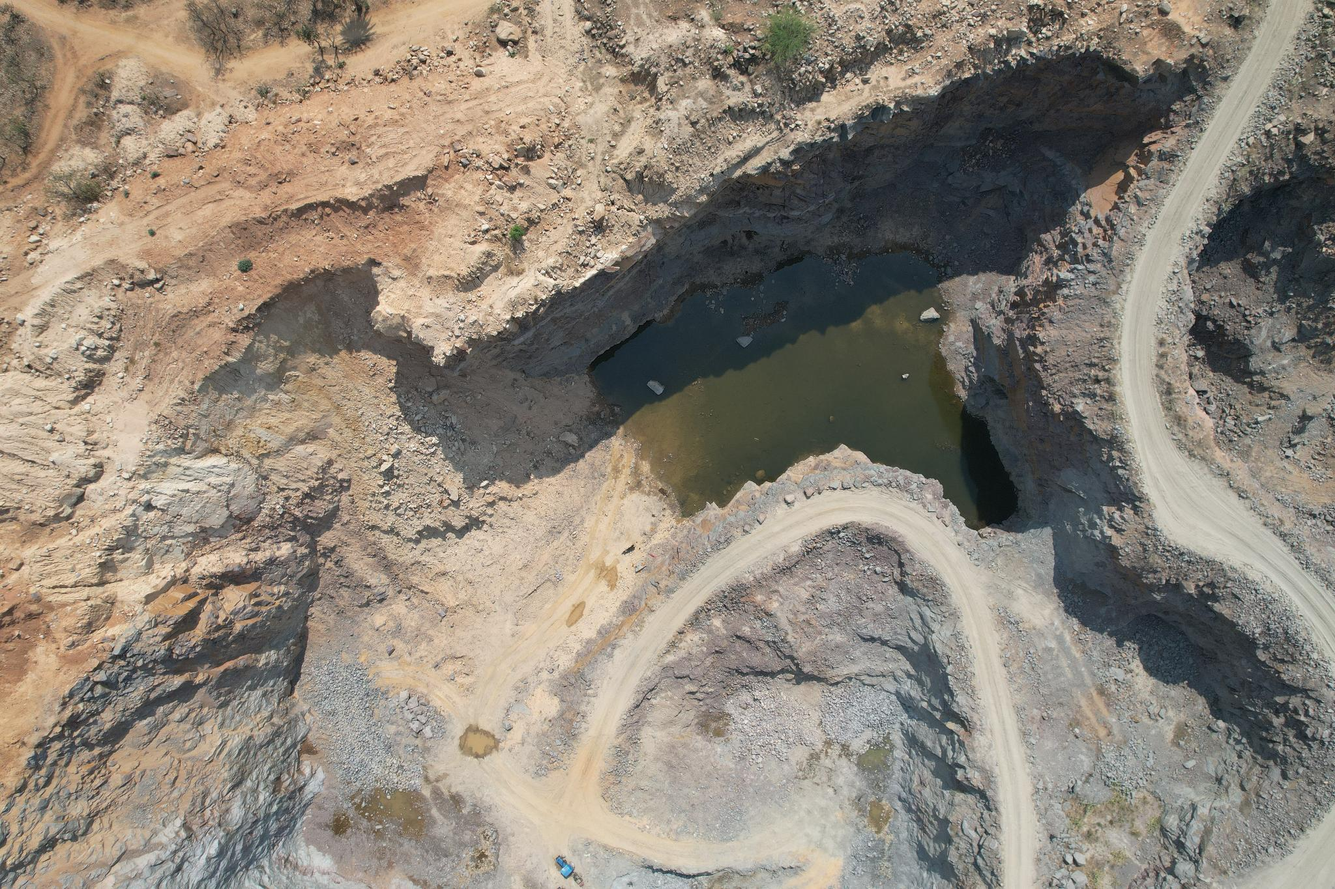benches: (564, 487, 1037, 889), (1116, 0, 1335, 667), (562, 788, 713, 861), (1240, 807, 1335, 889)
